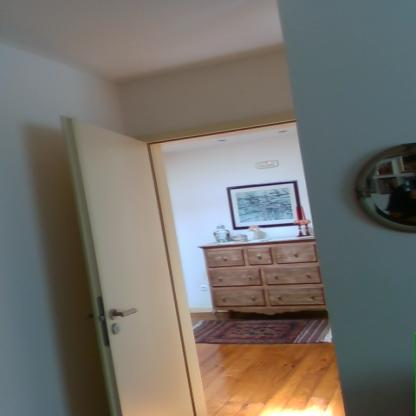open: (56, 103, 350, 414)
